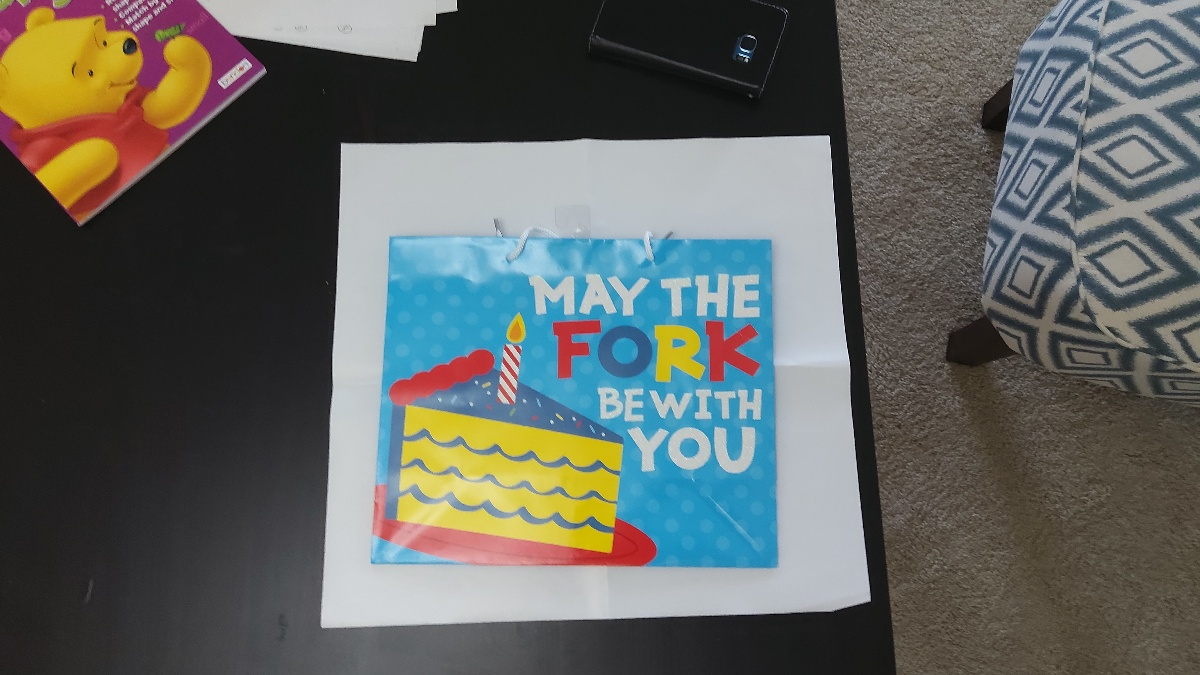paper_bag: (387, 240, 775, 569)
